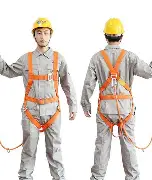safety belt: (93, 46, 143, 141), (18, 52, 68, 132)
